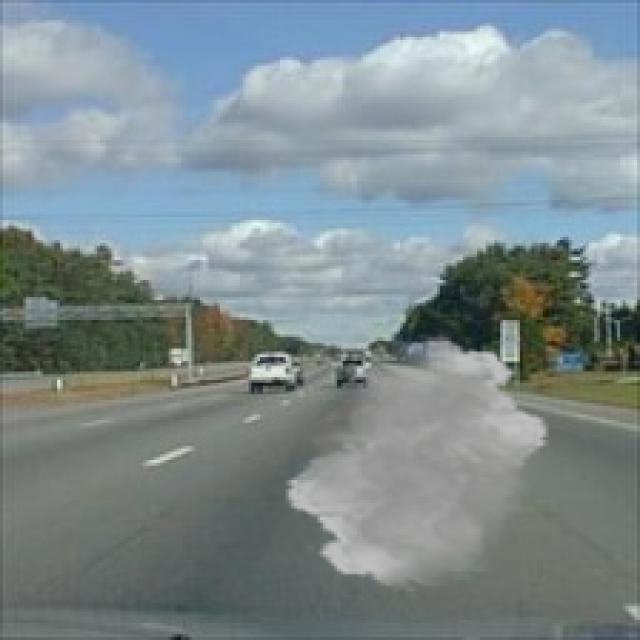smoke: (283, 334, 551, 592)
